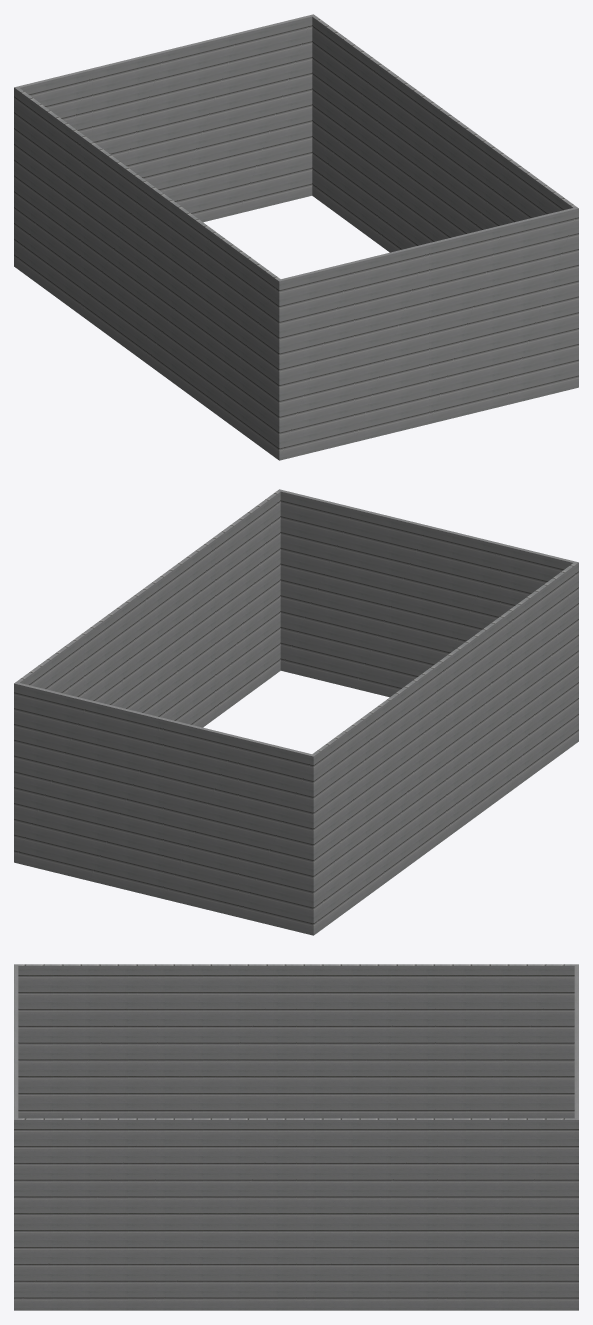
Rendered from exteriorGf.glb.
3 views of the same model, one above another, from view 1: azimuth 30°, elevation 25°; view 2: azimuth 150°, elevation 25°; view 3: azimuth 270°, elevation 25° (orthographic). The views are drawn at different scales.
Parts seen in each view (by area): view 1: exteriorwall; view 2: exteriorwall; view 3: exteriorwall.
Part boxes in pixels (bbox=[...]): exteriorwall: bbox=[14, 14, 578, 460]; exteriorwall: bbox=[14, 489, 578, 935]; exteriorwall: bbox=[14, 964, 578, 1310].
Bounding box in the file's own units: 4.9 × 2.8 × 7.52.
1 material, 1 textured.
